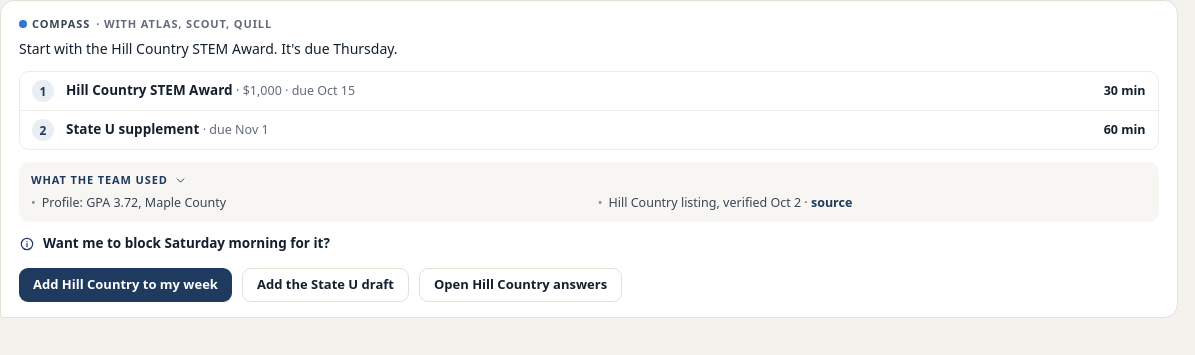
Scenario: ReplyCard › treats a 409 as already being applied: status text, disabled card, refresh, no alert (R3A-15)
The width and height of the screenshot is (1195, 355).
Click the button "Add Hill Country to my week": (125, 285) [19,268,232,302]
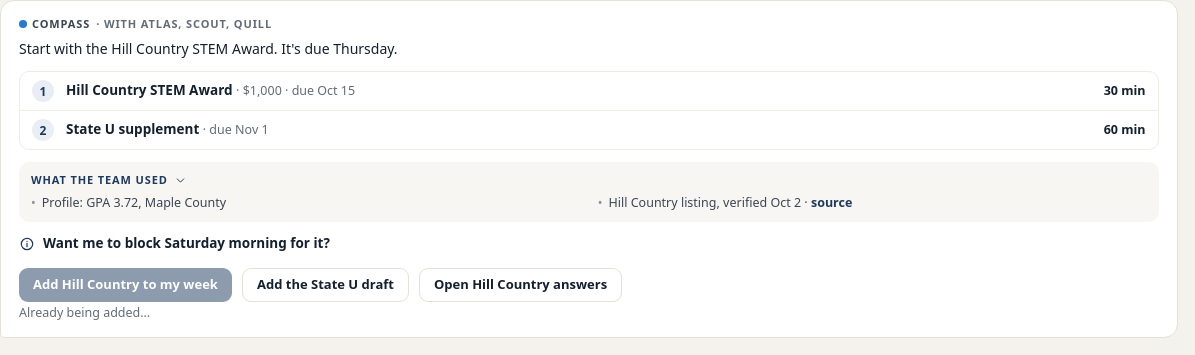
Expected: the button "Add the State U draft" is enabled, [242,268,409,302]
Now the text "Already being added…" is shown, box [19,304,150,321]
Now the button "Add Hill Country to my week" is disabled, box [19,268,232,302]
